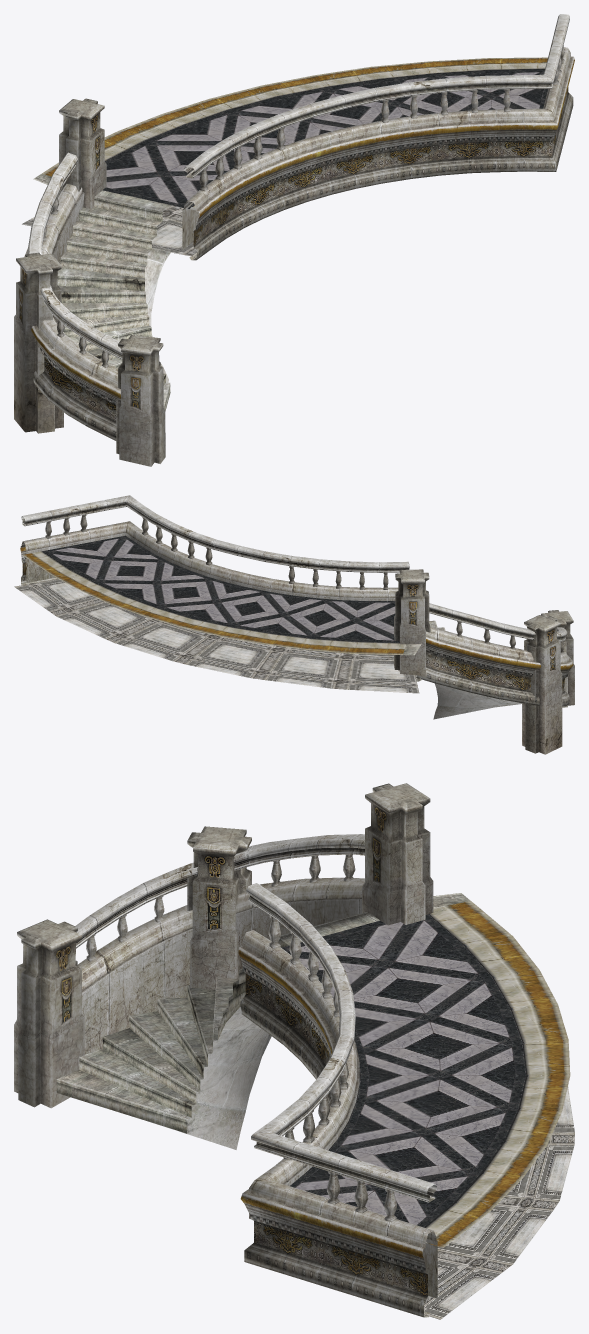
Rendered from KnightCastle_LibraryBalcony02.FBX.
3 renders of one model, top to bottom at view 1: azimuth 30°, elevation 25°; view 2: azimuth 150°, elevation 25°; view 3: azimuth 270°, elevation 25°, orthographic. The views are drawn at different scales.
Visible parts, largest first — view 1: SM_KnightCastle_LibraryBalcony02; view 2: SM_KnightCastle_LibraryBalcony02; view 3: SM_KnightCastle_LibraryBalcony02.
Boxes of the visible parts, left/top/right/bottom form: SM_KnightCastle_LibraryBalcony02: left=14, top=14, right=574, bottom=466; SM_KnightCastle_LibraryBalcony02: left=14, top=495, right=574, bottom=754; SM_KnightCastle_LibraryBalcony02: left=14, top=783, right=574, bottom=1319.
Bounding box in the file's own units: 1354 × 743 × 504.
